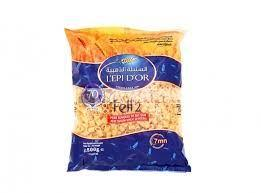Fell: (67, 30, 193, 172)
